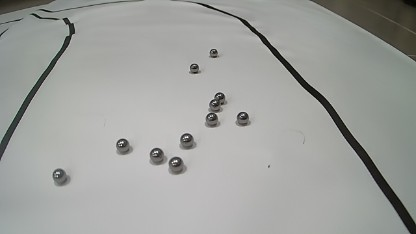ironball: (149, 147, 164, 163), (52, 168, 67, 184), (169, 156, 183, 173), (180, 133, 194, 148), (116, 138, 130, 152), (236, 111, 249, 125), (206, 112, 218, 125), (209, 99, 221, 111), (214, 92, 225, 104), (189, 63, 198, 73), (209, 48, 218, 57)
